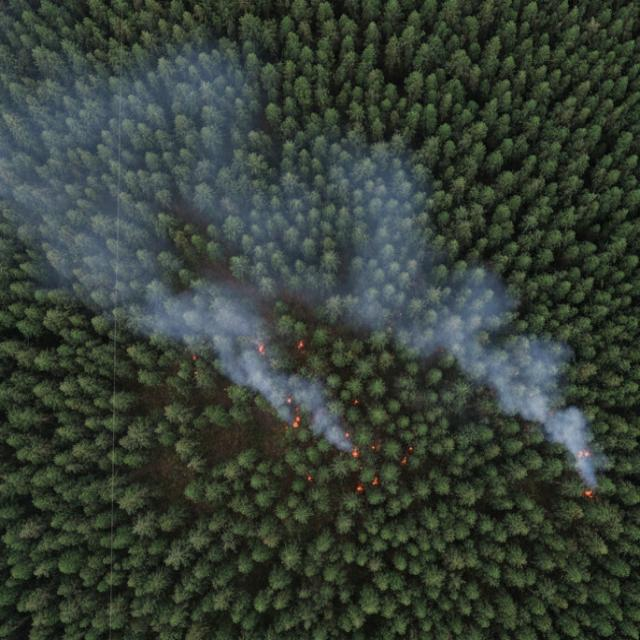wildfire: (270, 369, 364, 472), (183, 308, 314, 362), (546, 407, 611, 511)
